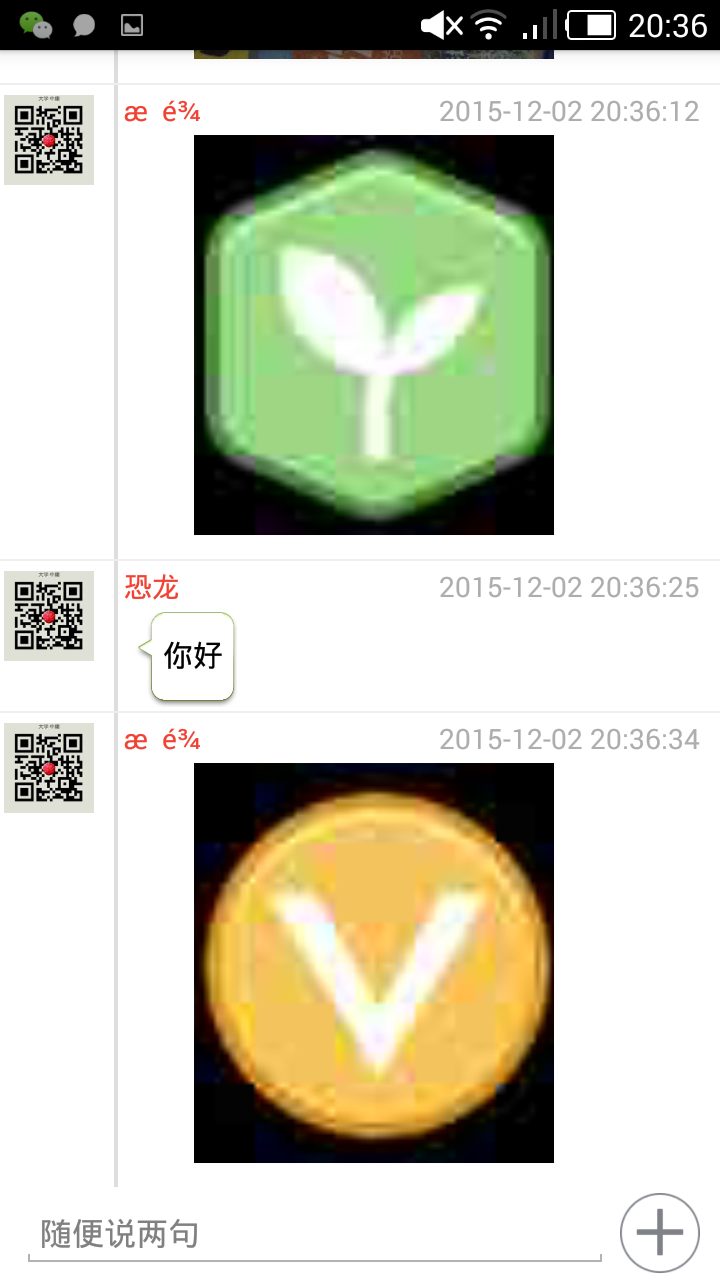imgview: (182, 759, 563, 1170)
textview: (17, 1183, 620, 1280), (133, 612, 261, 703)
